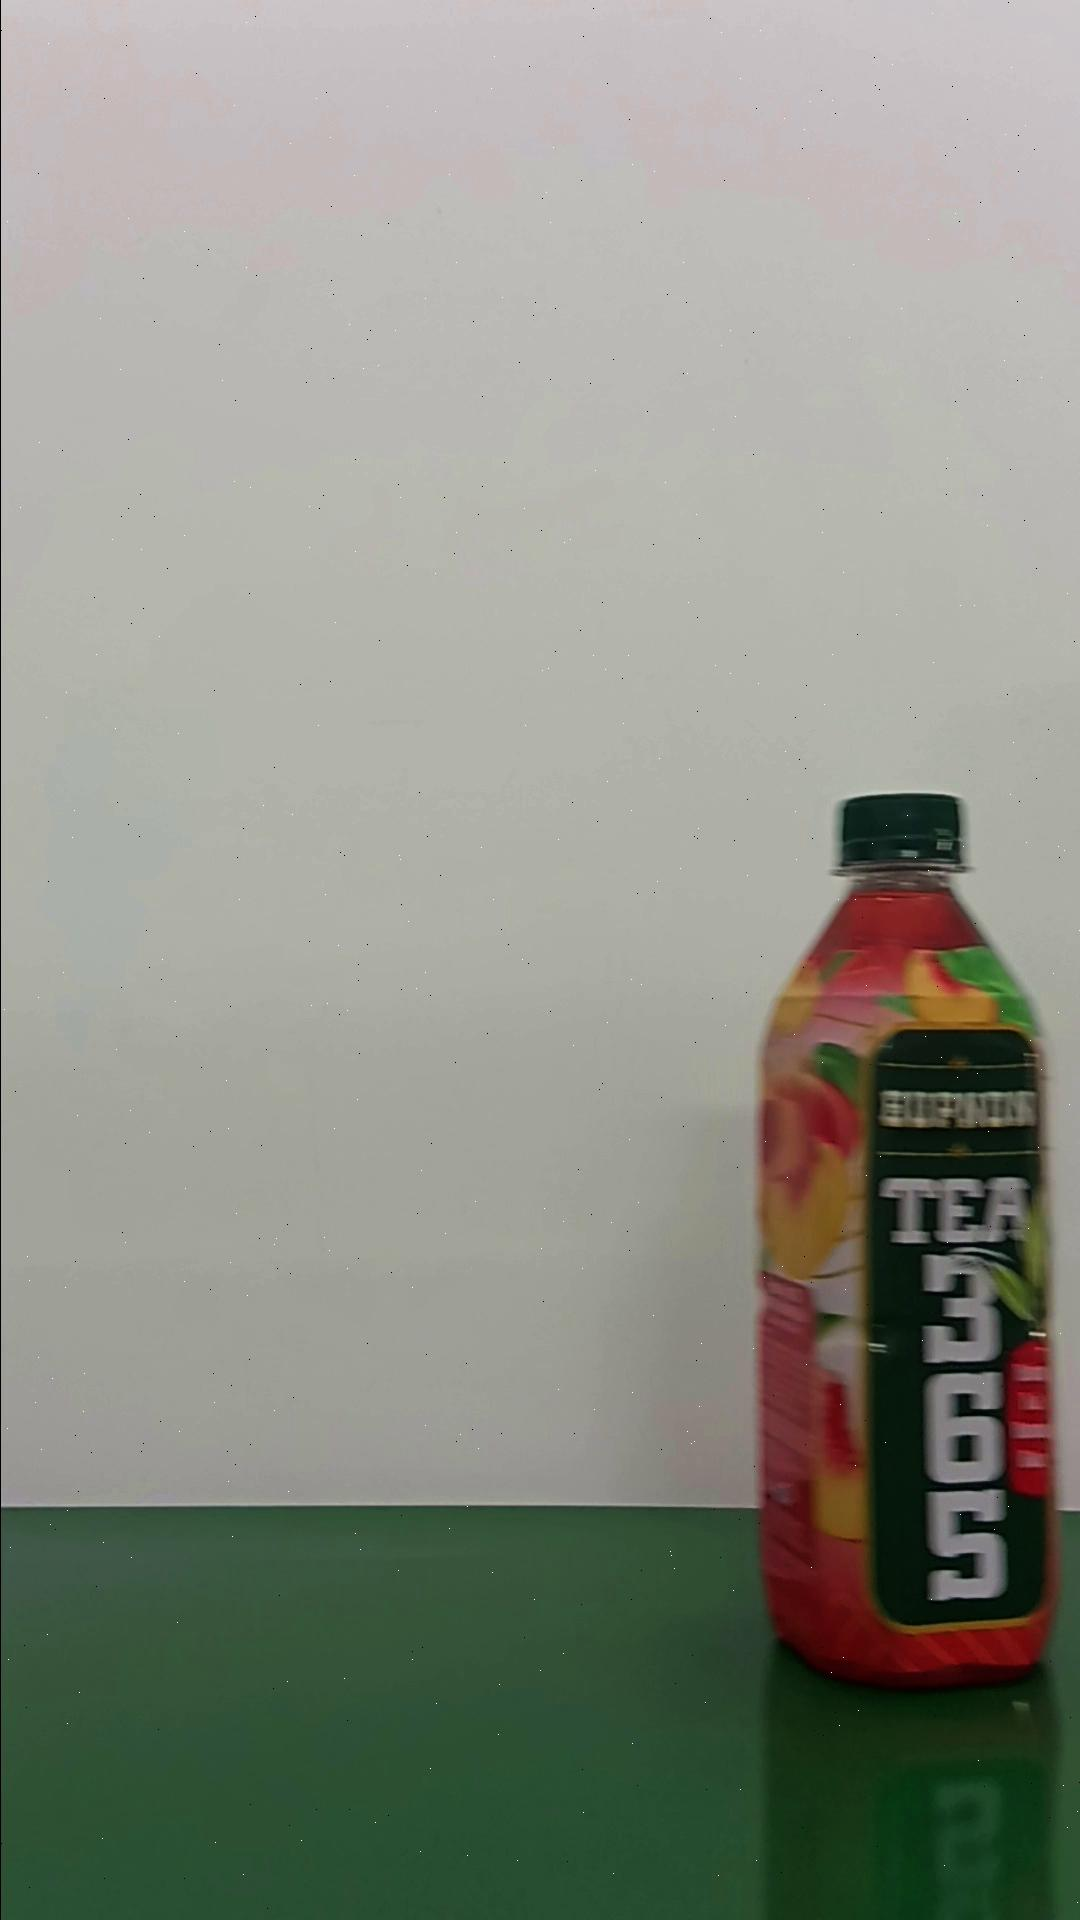khong loi: (750, 789, 1059, 1691)
